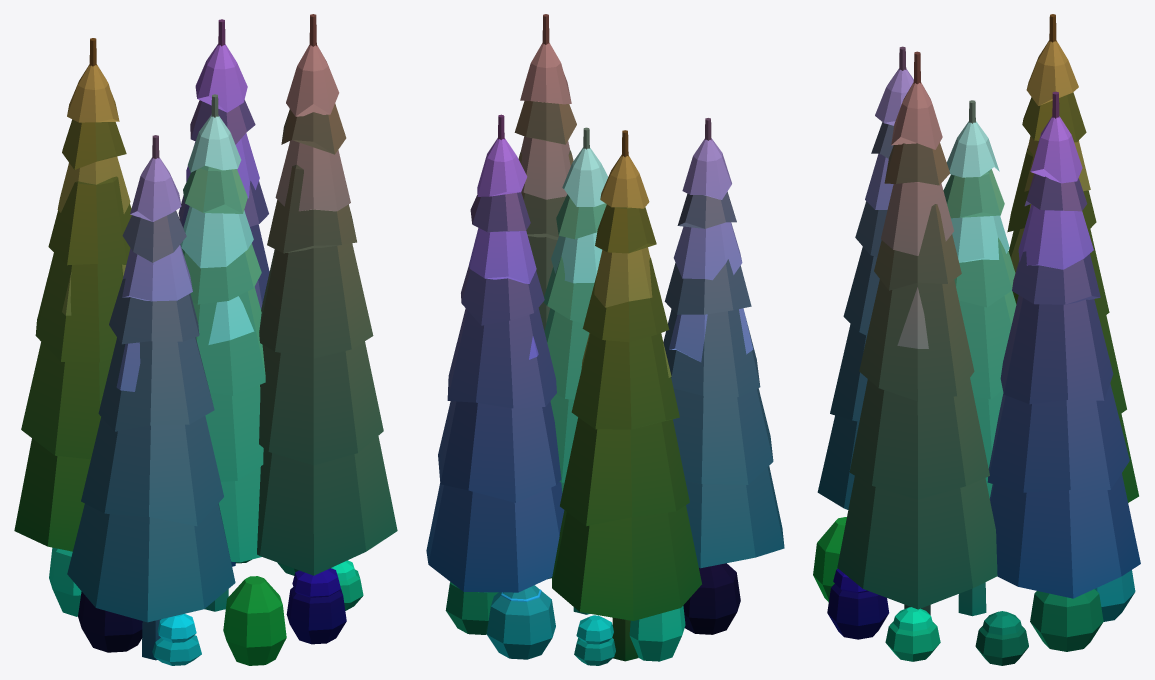
The model's file is frost_02.glb.
3 views of the same model, side by side, from view 1: azimuth 30°, elevation 25°; view 2: azimuth 150°, elevation 25°; view 3: azimuth 270°, elevation 25° (orthographic). The views are drawn at different scales.
Parts seen in each view (by area): view 1: frost_02.002; view 2: frost_02.002; view 3: frost_02.002.
Boxes of the visible parts, x1,y1,x2,y2 form: frost_02.002: [14, 14, 397, 665]; frost_02.002: [426, 14, 784, 665]; frost_02.002: [813, 14, 1140, 665].
Bounding box in the file's own units: 0.94 × 1.72 × 0.8636.
